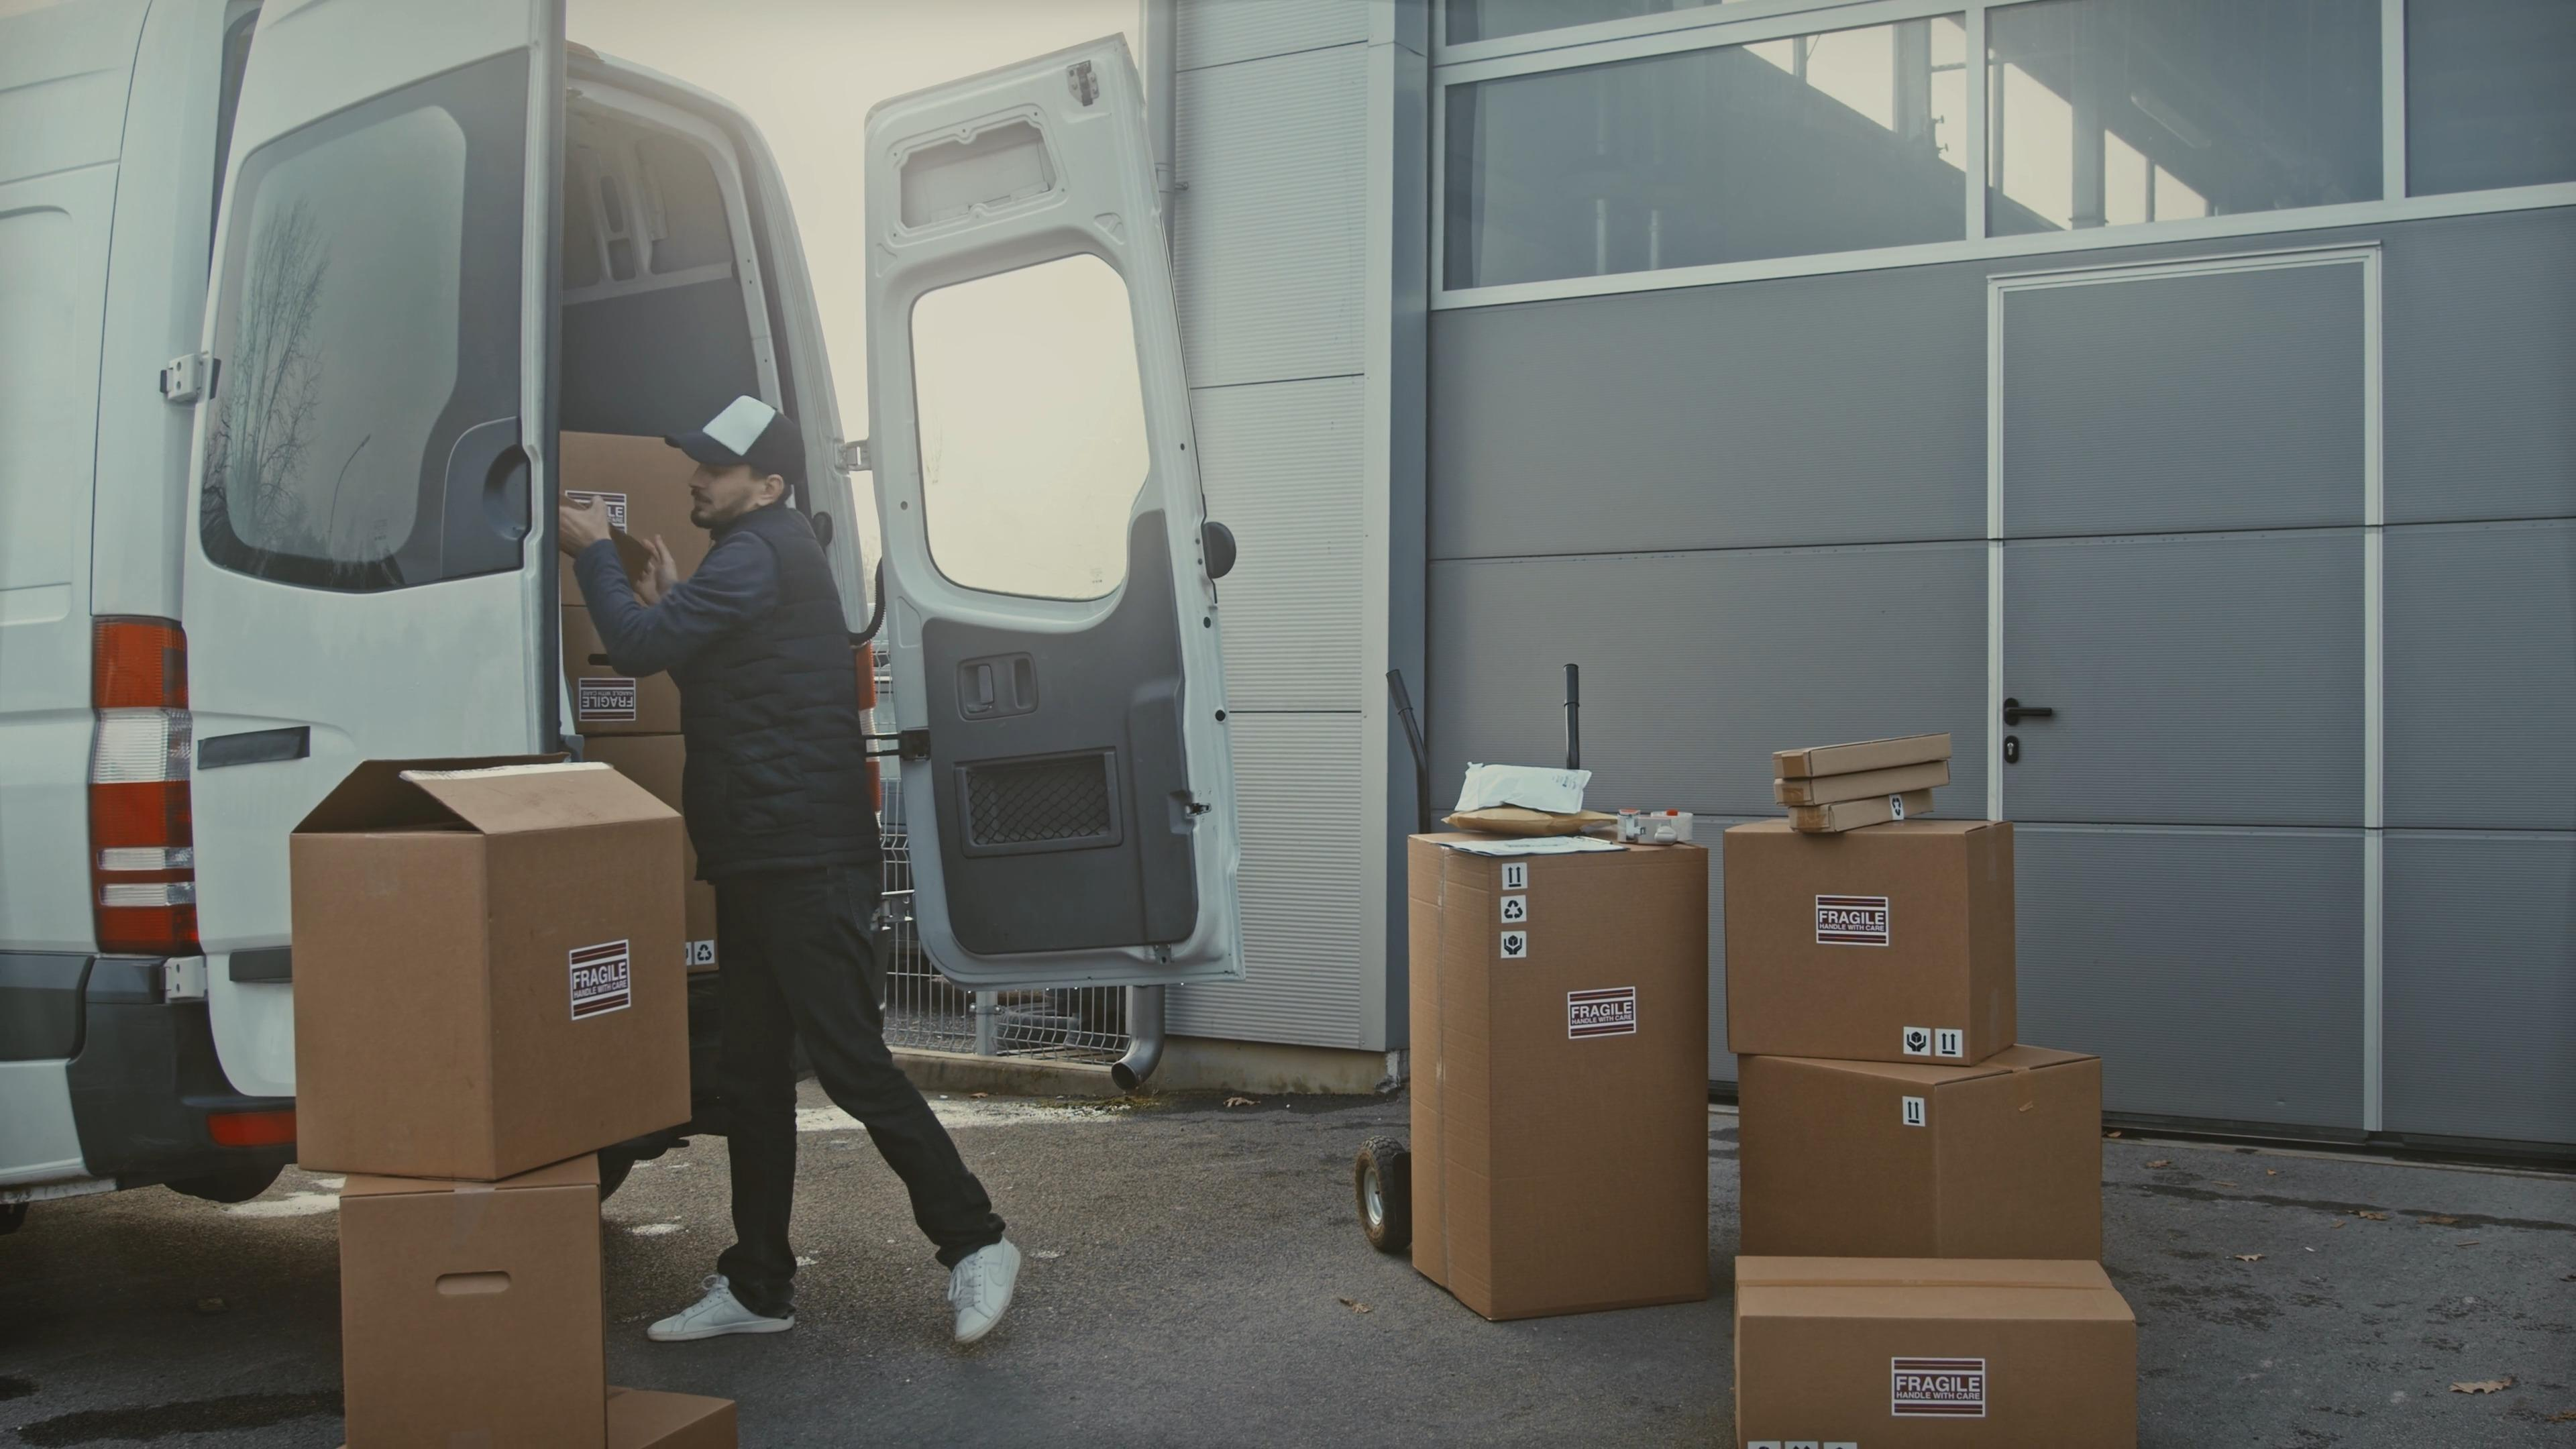-: (283, 748, 699, 1187), (1396, 833, 1721, 1329), (1732, 1253, 2143, 1449), (343, 1175, 616, 1449), (1752, 1063, 2111, 1265), (1729, 833, 2013, 1074), (1771, 734, 1950, 778), (1782, 791, 1943, 832), (1767, 763, 1951, 798)
